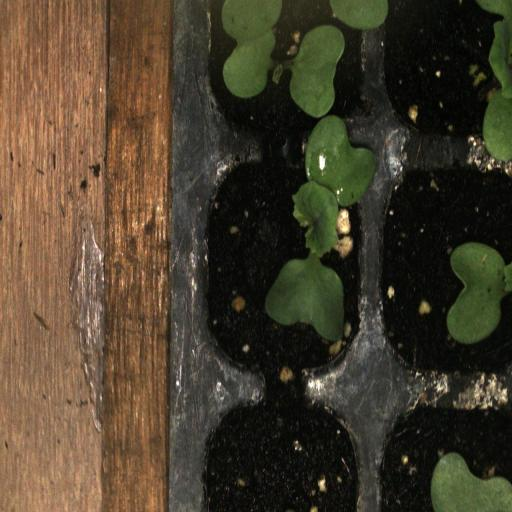seedling: (197, 153, 372, 389)
